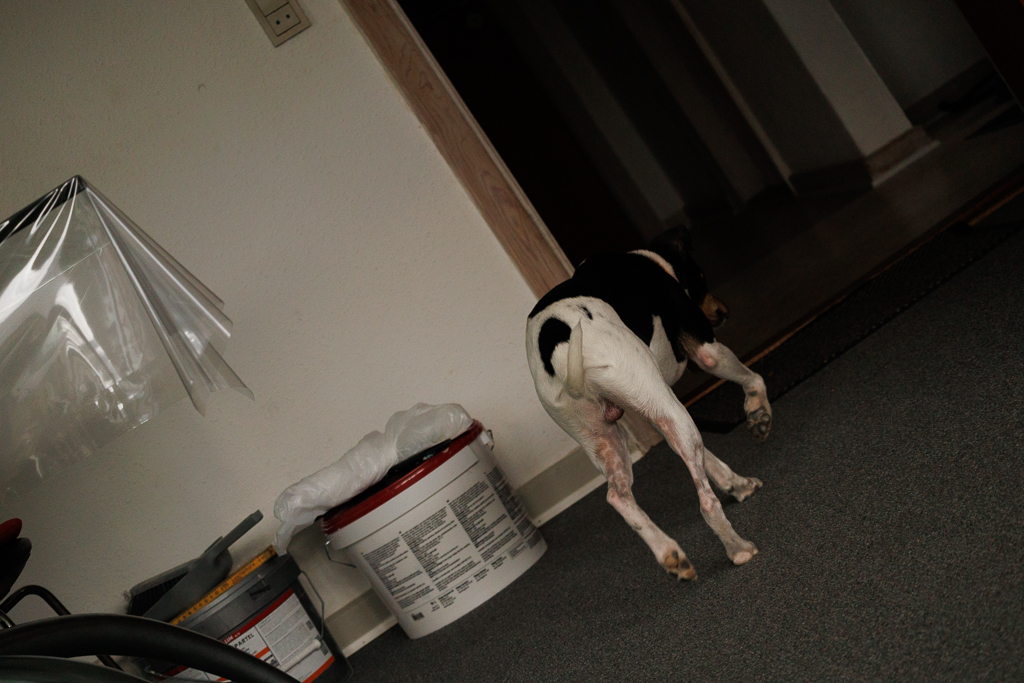Dog: (514, 225, 787, 592)
